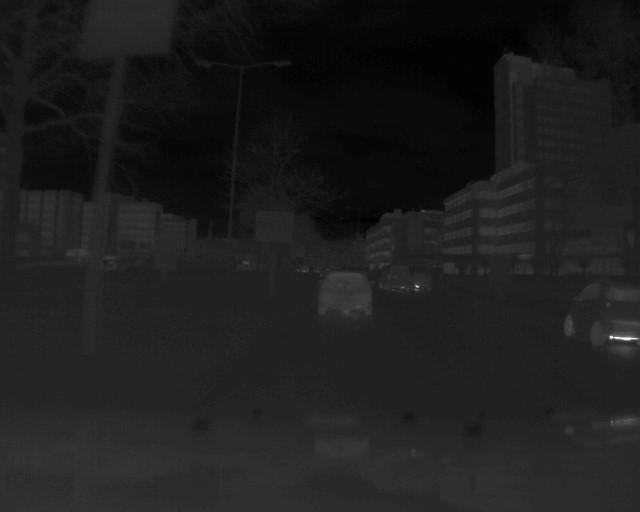car: (562, 280, 639, 347), (317, 271, 376, 317), (381, 261, 413, 293), (103, 252, 130, 274)
